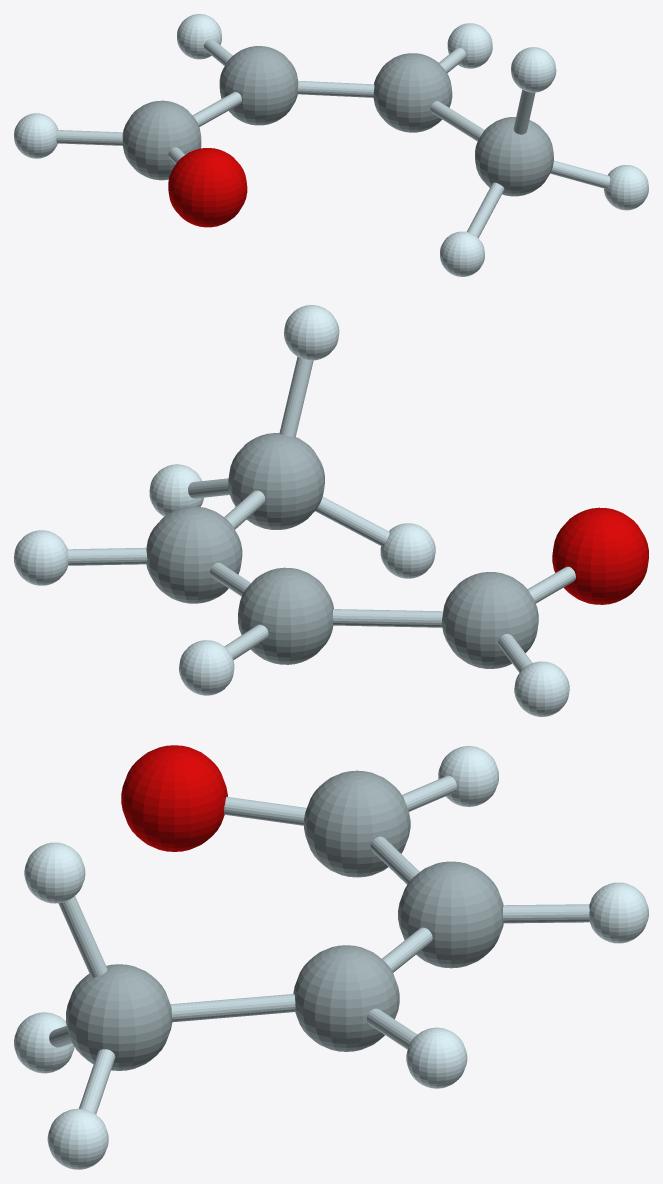
The model's file is irc_000.glb.
3 renders of one model, top to bottom at view 1: azimuth 30°, elevation 25°; view 2: azimuth 150°, elevation 25°; view 3: azimuth 270°, elevation 25°, orthographic. The views are drawn at different scales.
Visible parts, largest first — view 1: Renderer Node; view 2: Renderer Node; view 3: Renderer Node.
Part boxes in pixels (x1=…): Renderer Node: x1=14, y1=14, x2=648, y2=276; Renderer Node: x1=14, y1=305, x2=648, y2=716; Renderer Node: x1=14, y1=745, x2=648, y2=1169.
Bounding box in the file's own units: 4.9 × 1.98 × 4.16.
